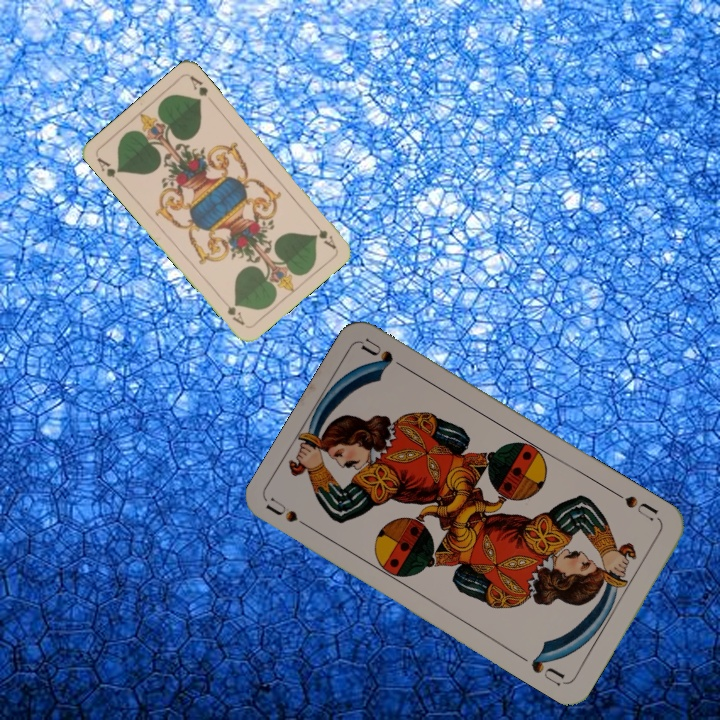GA: (308, 217, 339, 252), (93, 153, 124, 180)
SU: (263, 494, 319, 535), (610, 488, 661, 524)
